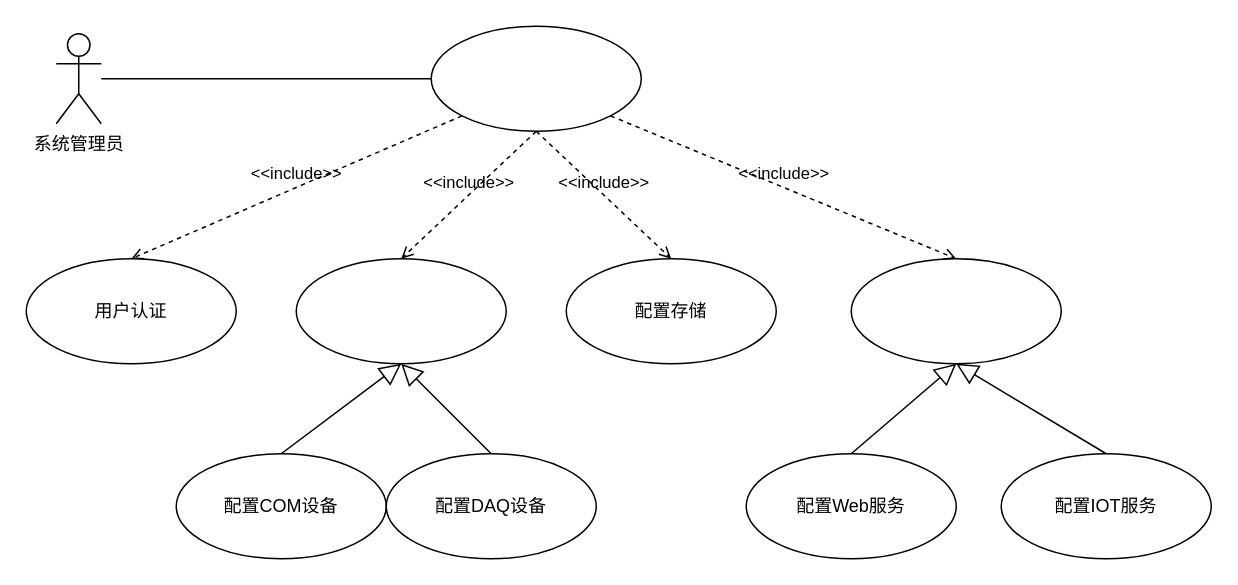
This 1238x585 diagram has some shape labels left out. The shapes that lost their labels are listed below. From the top down, each one's centre as x and y in pixels, then its label:
point 535,78: 配置终端
point 400,310: 配置采集设备
point 955,310: 配置对外服务
